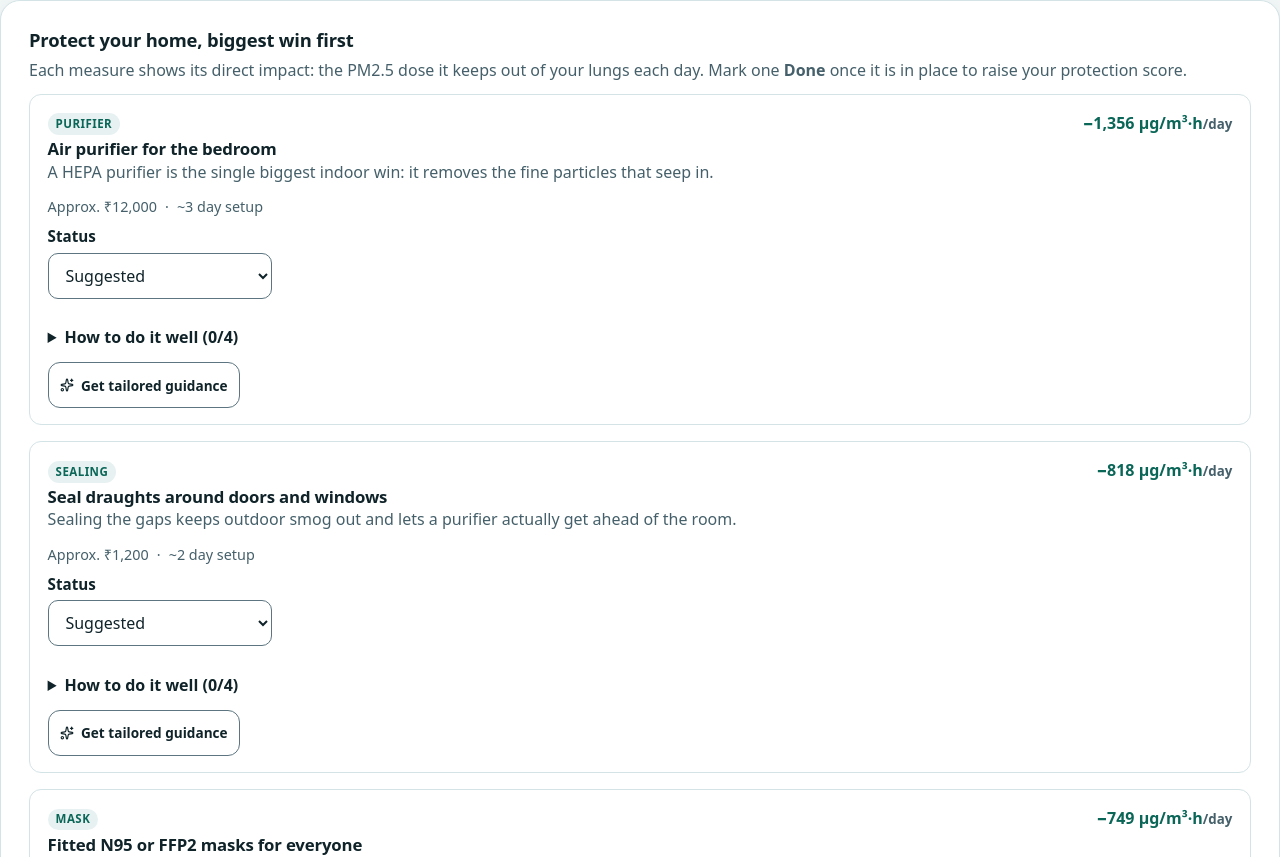
Test: MeasuresPanel › explains when guidance cannot be fetched
Click the button "Get tailored guidance" below "Air purifier for the bedroom": click(144, 386) [48, 362, 240, 408]
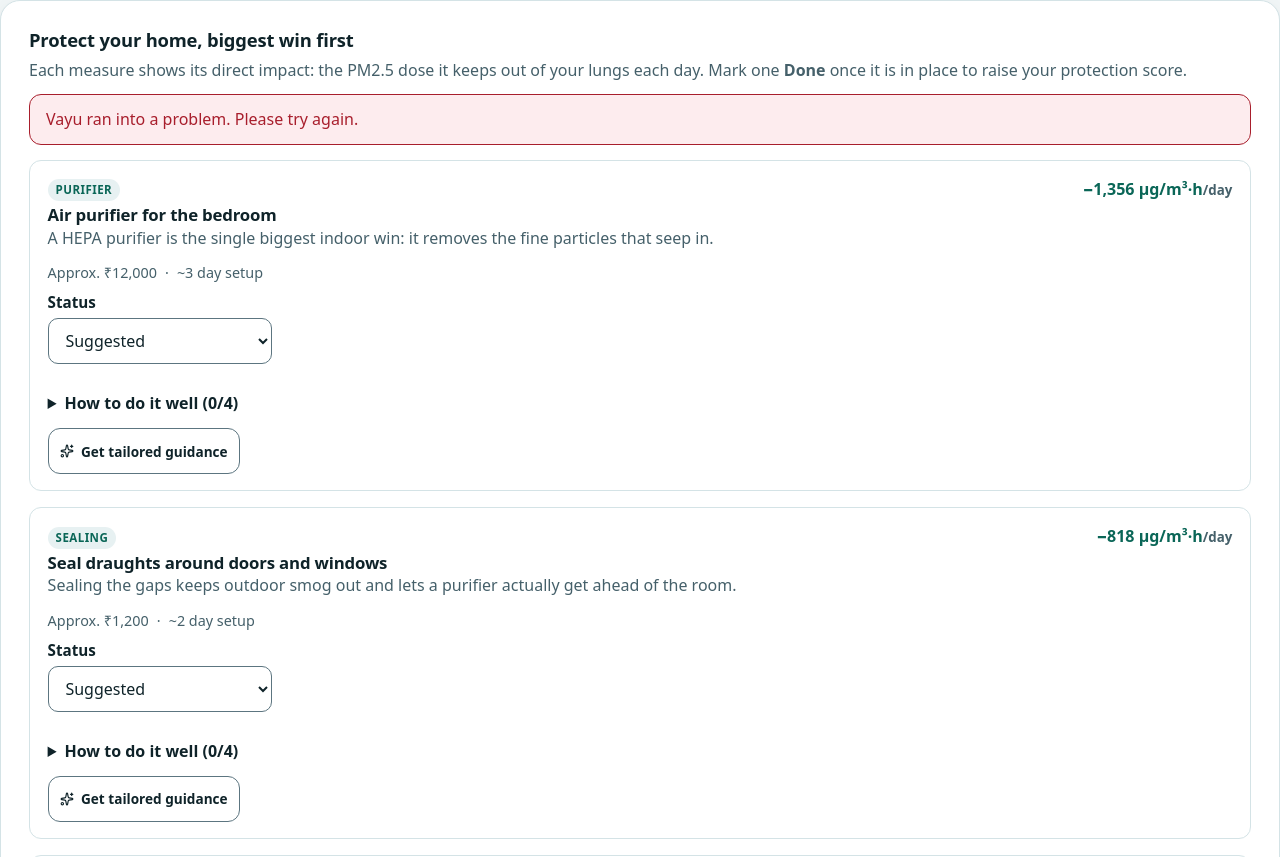
Expected: the message "Vayu ran into a problem. Please try again." is shown, [29, 94, 1251, 145]
